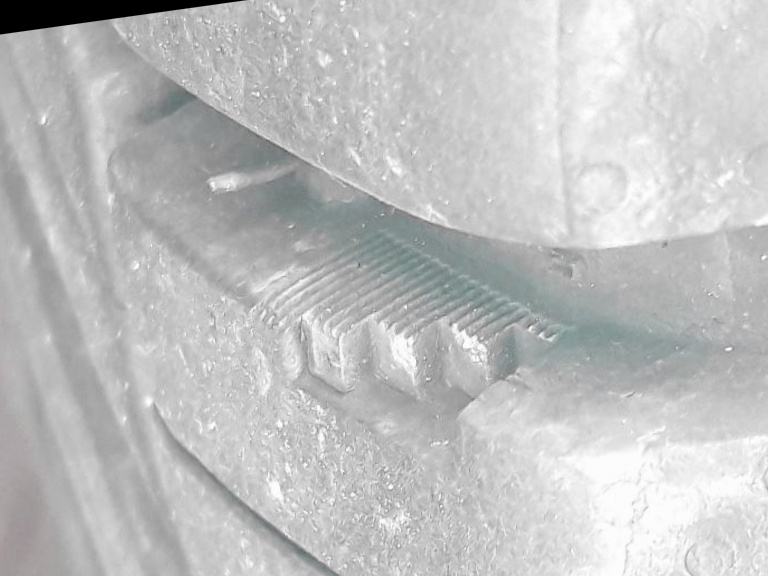temoin:90: (234, 190, 597, 514)
